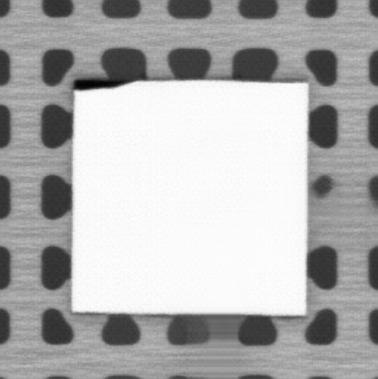DIE_BROKEN: (73, 77, 132, 92)
